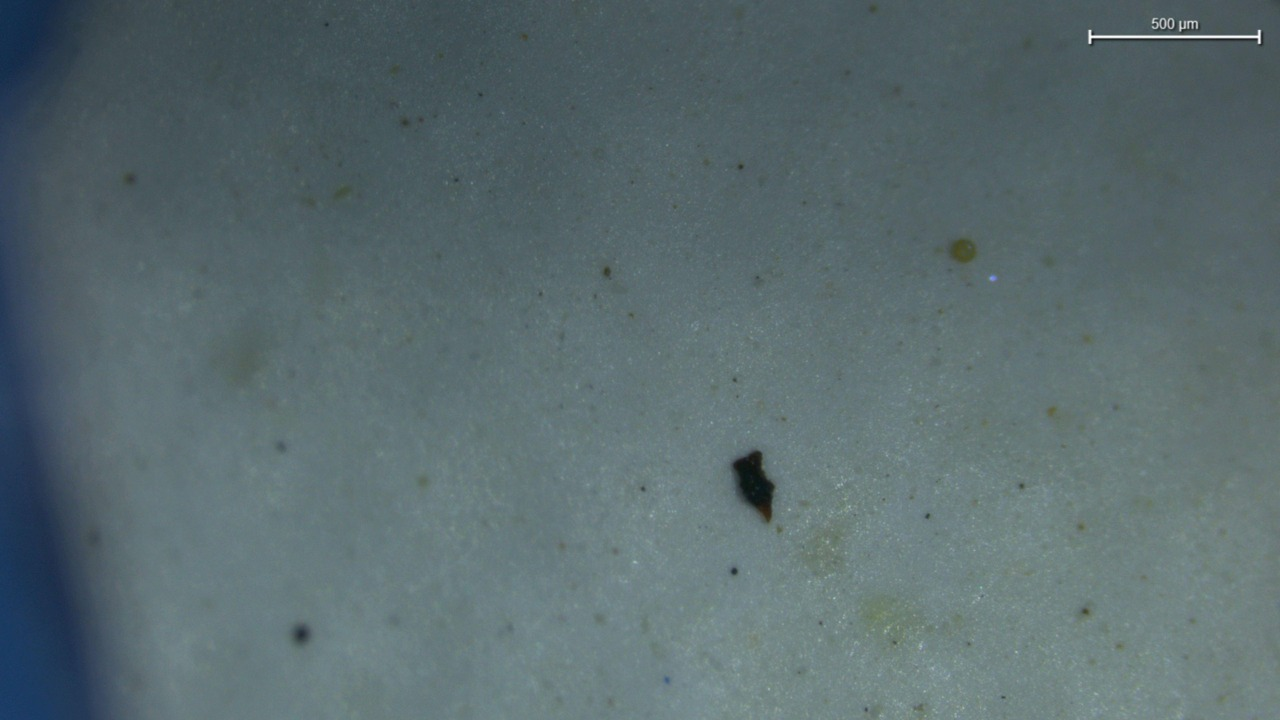microplastic_fragment: (733, 450, 775, 523)
